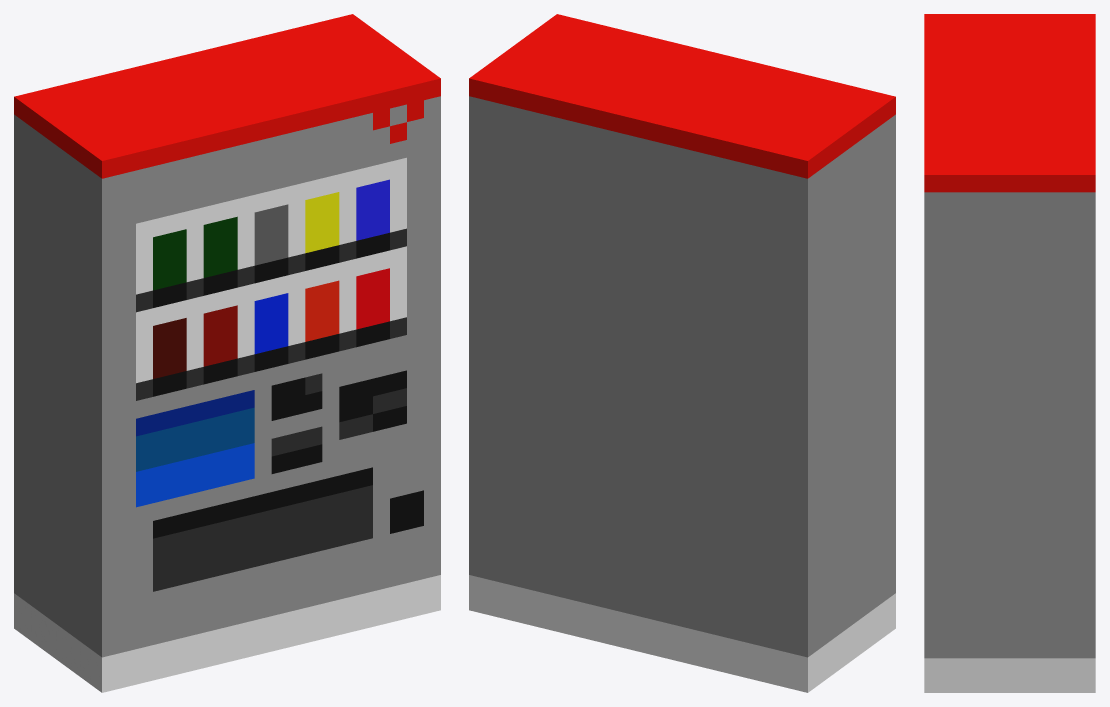
File: machine.obj
The picture shows the model from 3 angles, left to right: view 1: azimuth 30°, elevation 25°; view 2: azimuth 150°, elevation 25°; view 3: azimuth 270°, elevation 25°; orthographic projection. The views are drawn at different scales.
Parts seen in each view (by area): view 1: 立方体.001; view 2: 立方体.001; view 3: 立方体.001.
Boxes of the visible parts, x1=… form: 立方体.001: x1=14, y1=14, x2=440, y2=692; 立方体.001: x1=469, y1=14, x2=895, y2=692; 立方体.001: x1=924, y1=14, x2=1095, y2=692.
Size of the model in its own units: 20 by 30 by 9.
